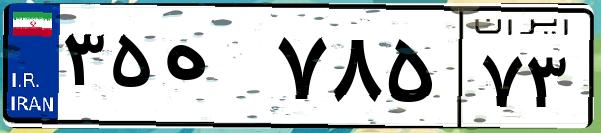3: (57, 26, 110, 100), (525, 38, 570, 115)
5: (385, 28, 445, 110), (110, 28, 158, 98)
7: (270, 28, 330, 110), (475, 38, 525, 113)
8: (330, 28, 385, 110)
ه: (158, 20, 270, 120)
